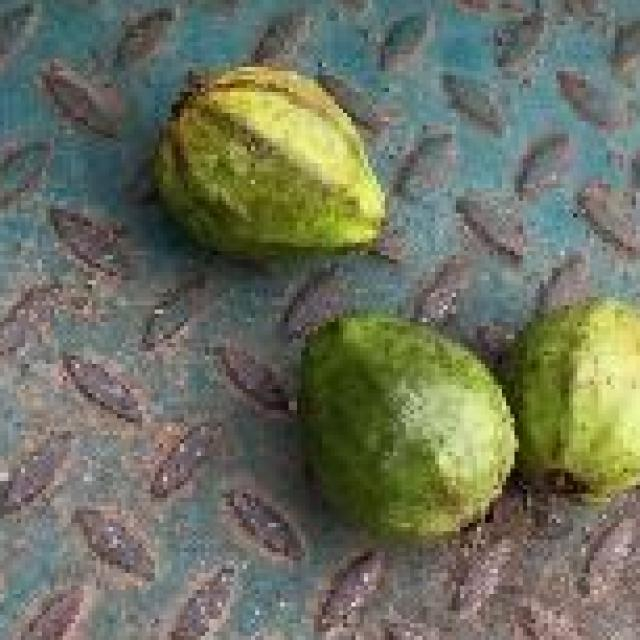Good_Guava 5-7 days: (297, 301, 640, 548), (151, 67, 385, 268)
